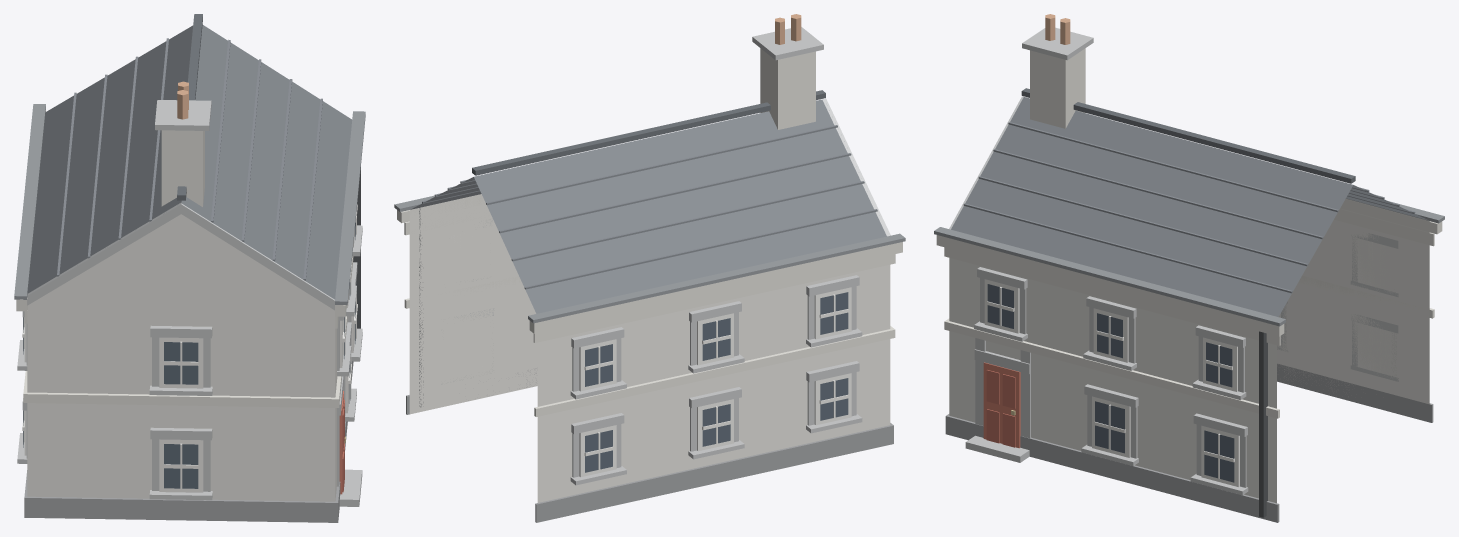
3 views of the same model, side by side, from view 1: azimuth 30°, elevation 25°; view 2: azimuth 150°, elevation 25°; view 3: azimuth 270°, elevation 25° (orthographic). The views are drawn at different scales.
Parts seen in each view (by area): view 1: harl, slate, stone_band, plinth, lead, slate_lt, string, frame, chim_render, window_glass_012, window_glass_013, slate_dk (+2 smaller); view 2: harl, slate, string, stone_band, plinth, frame, slate_lt, lead, chim_render, slate_dk, window_glass_010, window_glass_011 (+4 smaller); view 3: harl, slate, stone_band, string, plinth, frame, slate_lt, lead, chim_render, slate_dk, door_red_p, pipe (+6 smaller).
Boxes of the visible parts, <box> form: harl: <box>27,214,348,501</box>; slate: <box>27,25,352,299</box>; stone_band: <box>17,100,362,506</box>; plinth: <box>24,361,353,522</box>; lead: <box>14,104,365,305</box>; slate_lt: <box>57,38,322,280</box>; string: <box>16,110,353,407</box>; frame: <box>22,204,357,492</box>; chim_render: <box>161,130,204,206</box>; window_glass_012: <box>164,444,198,488</box>; window_glass_013: <box>164,342,198,384</box>; slate_dk: <box>177,14,202,200</box>; harl: <box>409,194,890,502</box>; slate: <box>410,99,886,313</box>; string: <box>397,195,902,416</box>; stone_band: <box>441,27,890,485</box>; plinth: <box>406,368,893,522</box>; frame: <box>451,235,851,477</box>; slate_lt: <box>422,125,877,289</box>; lead: <box>394,195,905,323</box>; chim_render: <box>760,48,815,129</box>; slate_dk: <box>472,90,825,175</box>; window_glass_010: <box>820,378,848,420</box>; window_glass_011: <box>820,292,848,334</box>; harl: <box>949,198,1429,503</box>; slate: <box>951,97,1428,316</box>; stone_band: <box>949,27,1398,495</box>; string: <box>936,199,1442,418</box>; plinth: <box>945,363,1433,522</box>; frame: <box>984,239,1390,487</box>; slate_lt: <box>963,122,1415,293</box>; lead: <box>934,198,1444,326</box>; chim_render: <box>1030,48,1085,128</box>; slate_dk: <box>1021,88,1355,183</box>; door_red_p: <box>986,370,1015,447</box>; pipe: <box>1259,331,1267,517</box>.
Size of the model in its own units: 10.69 by 9.3 by 11.49.
